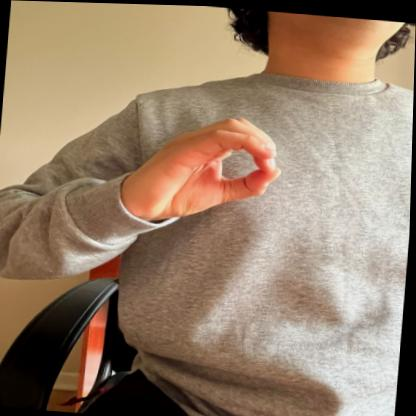O: (123, 104, 286, 233)
